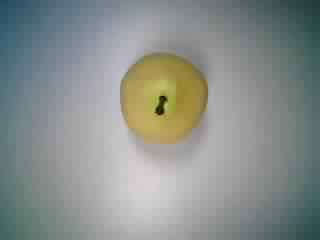pear: (109, 44, 219, 150)
